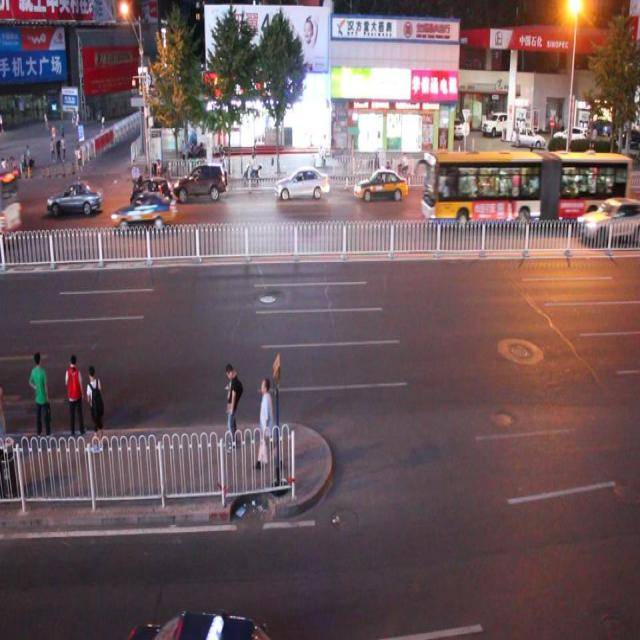car: (125, 607, 282, 640), (577, 196, 640, 245), (110, 191, 175, 227), (174, 160, 228, 200), (275, 164, 330, 202), (352, 167, 408, 202), (48, 182, 105, 214), (132, 176, 173, 212), (1, 179, 14, 212)
van: (420, 148, 628, 228)
